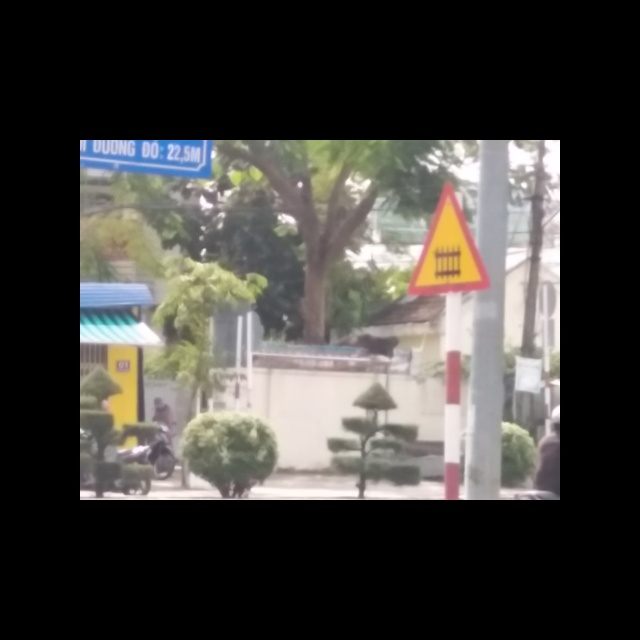Giao nhau với đường sắt có rào chắn: (403, 182, 493, 297)
